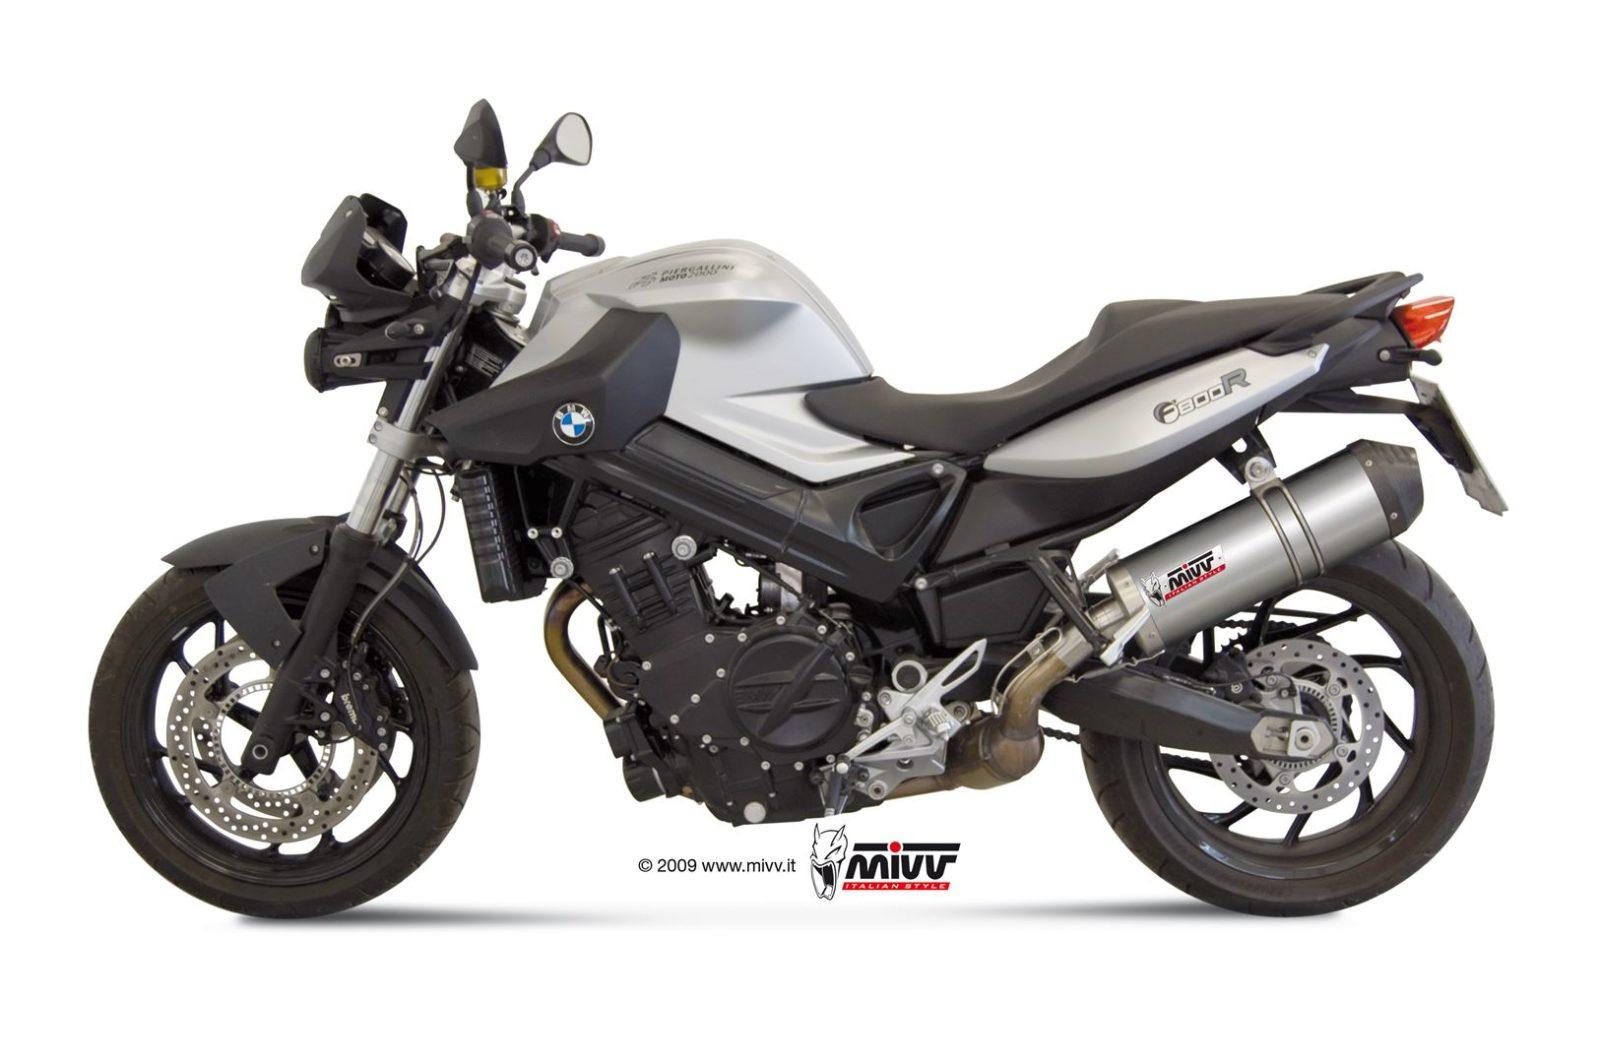engine-chasis: (541, 416, 987, 827)
exhaust: (882, 438, 1424, 801), (543, 574, 625, 720)
frontside: (161, 192, 681, 776)
handlebar: (357, 97, 606, 310)
motorbike: (88, 101, 1507, 917)
rearside: (913, 270, 1510, 706), (1040, 667, 1338, 763)
seat: (804, 293, 1347, 454)
tank: (489, 237, 917, 484)
watermark: (632, 821, 967, 902)
wheel: (1078, 539, 1494, 917), (88, 565, 483, 919), (339, 466, 423, 651), (415, 469, 446, 565), (1161, 752, 1215, 770), (1043, 726, 1079, 745)
